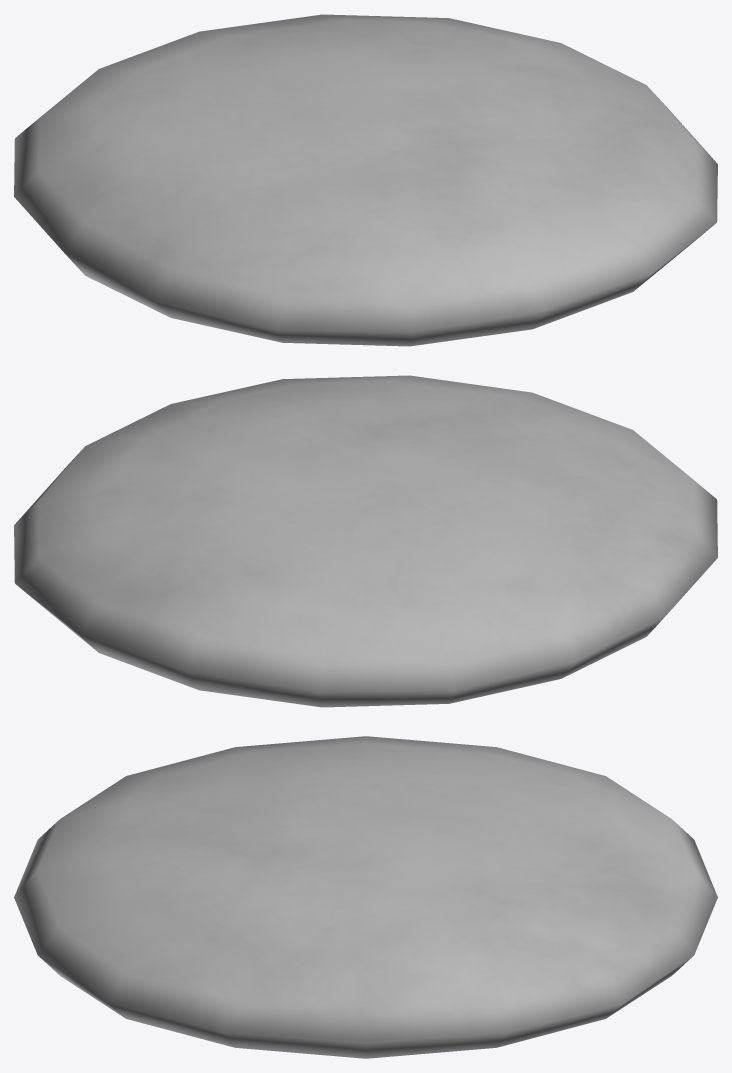
Rendered from FlatDough.fbx.
3 views of the same model, one above another, from view 1: azimuth 30°, elevation 25°; view 2: azimuth 150°, elevation 25°; view 3: azimuth 270°, elevation 25° (orthographic).
Parts seen in each view (by area): view 1: FlatDough; view 2: FlatDough; view 3: FlatDough.
Boxes of the visible parts, bbox=[...] form: FlatDough: bbox=[14, 14, 717, 346]; FlatDough: bbox=[14, 375, 717, 707]; FlatDough: bbox=[14, 736, 717, 1058].
Size of the model in its own units: 3.37 by 0.7205 by 3.47.
Materials: 1 (1 with a texture image).
